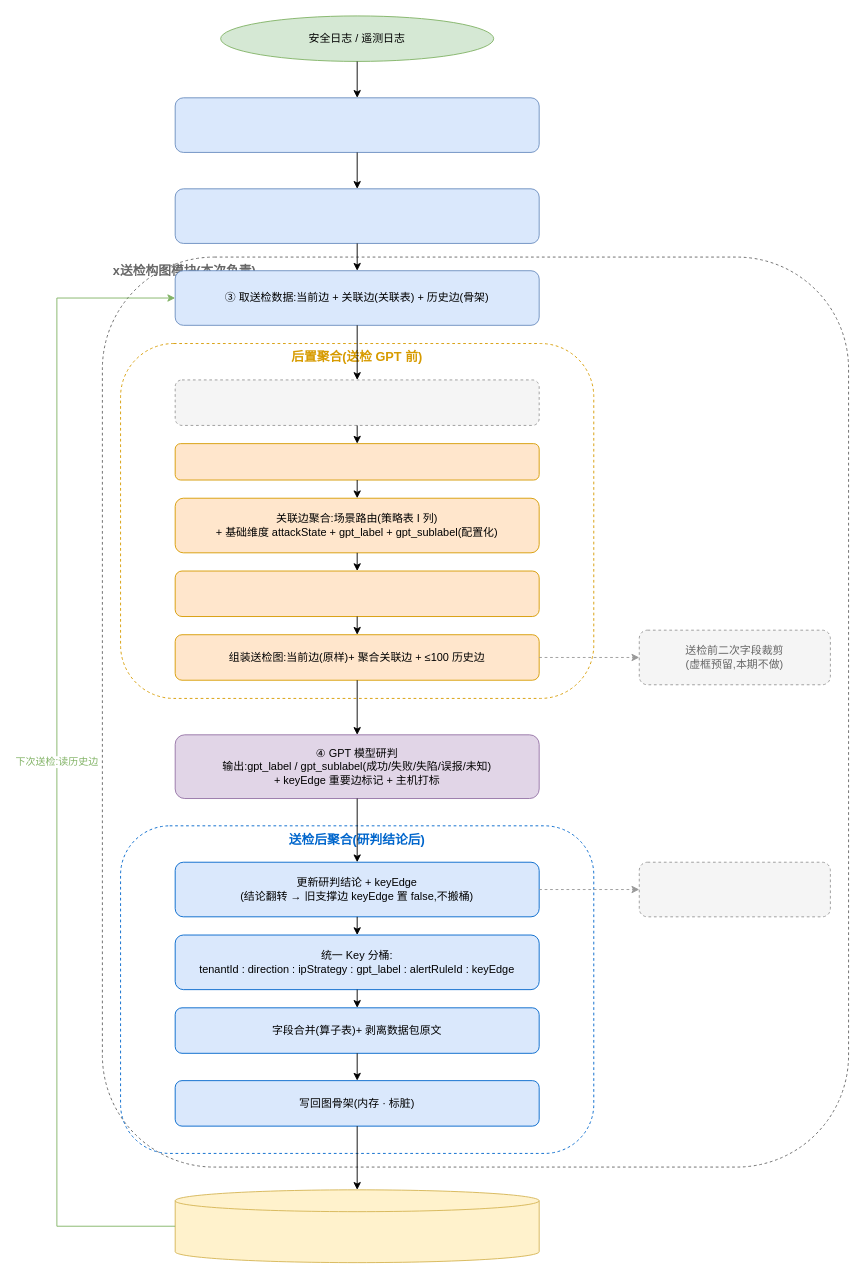
Image size: 865x1279. Some labels were removed from this diagram. The centre of each missing label's shape, as x and y in pixels:
"① 预处理模块:过滤业务日志 + ★前置聚合(分钟级折叠,非本次范围) 规则=「构图前置聚合策略」子表;边写入 Cassandra" goes at pixel 356 124.
"② x 关联模块:实体关联 / 多边关联,触发送检" goes at pixel 356 215.
"历史边裁剪 Top100(keyEdge > GPT 严重 > 打分 > 最新时间)" goes at pixel 356 593.
"图骨架:内存(TTL 7 天) ⇄ 定时批量同步 ⇄ Cassandra 持久化" goes at pixel 356 1226.
"当前边:不聚合,原样保留" goes at pixel 356 461.
"结论变更重触发送检 (虚框预留,第一版不做)" goes at pixel 734 889.
"重复送检边冷却接口(预留 · 本期空实现,默认放行)" goes at pixel 356 402.
